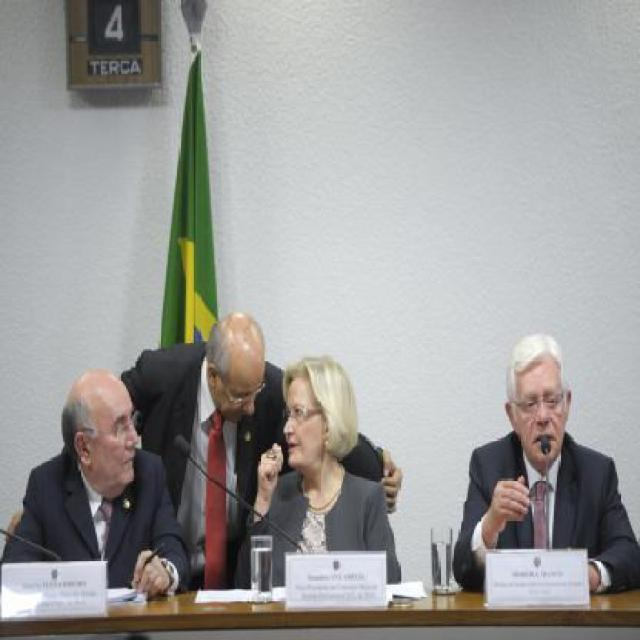Person: (2, 308, 404, 592), (467, 337, 630, 614), (3, 369, 191, 593), (232, 354, 400, 589)
